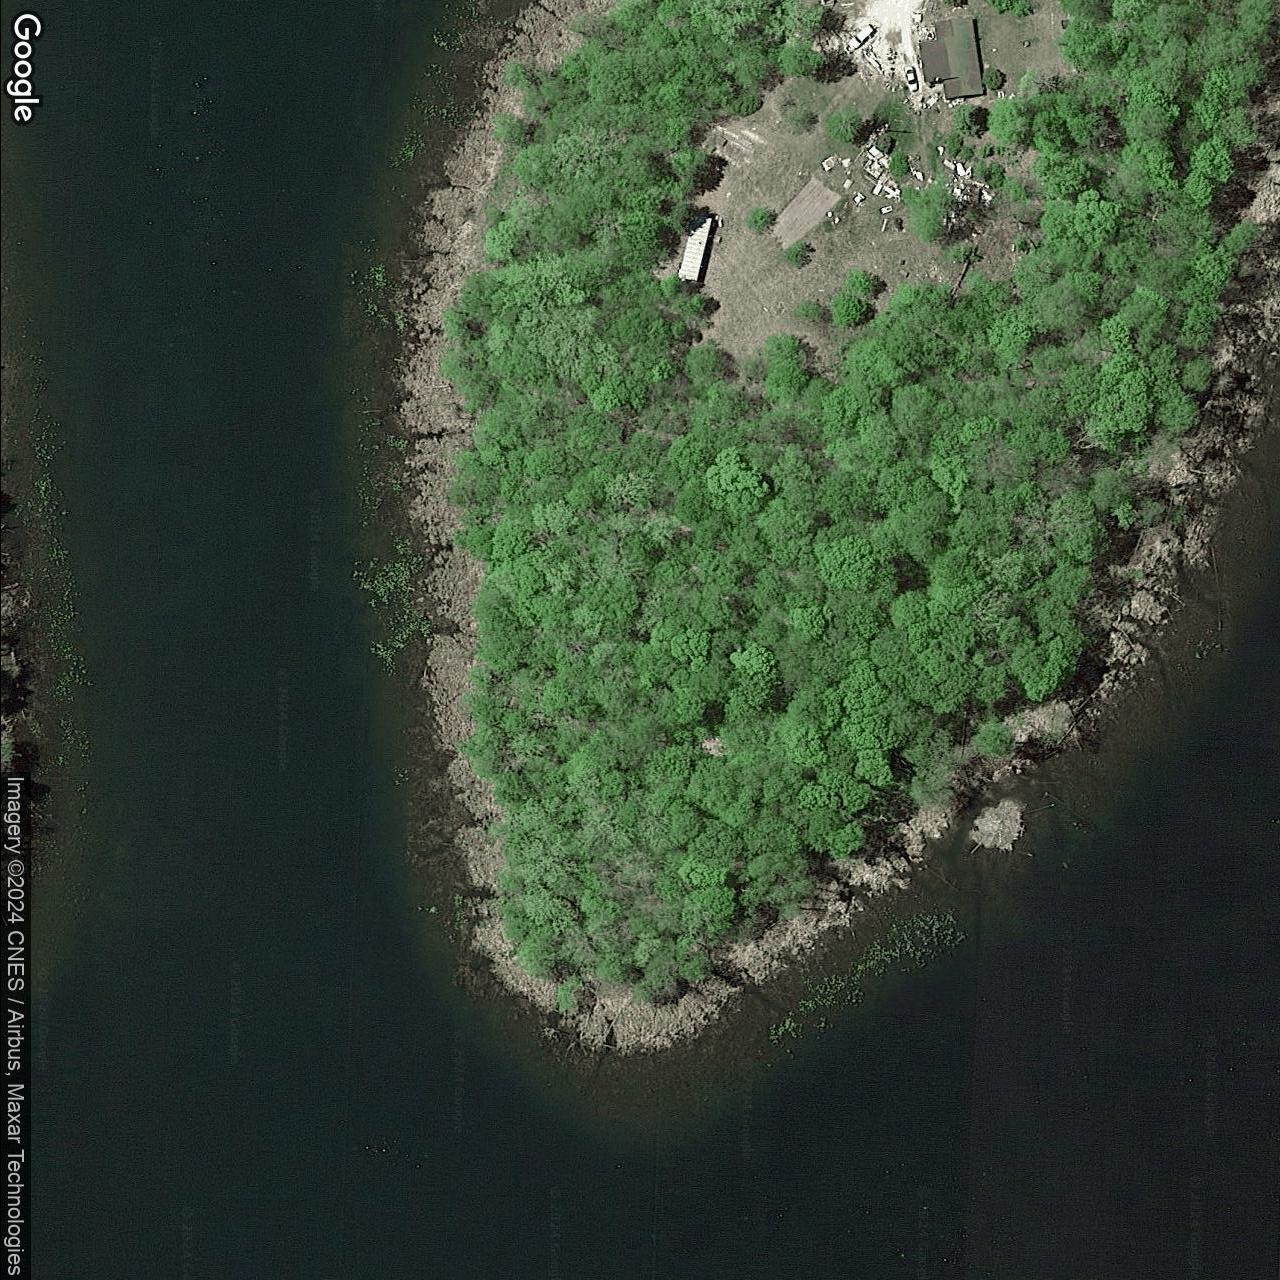House: (918, 15, 985, 101)
Trailer: (674, 213, 712, 284)
